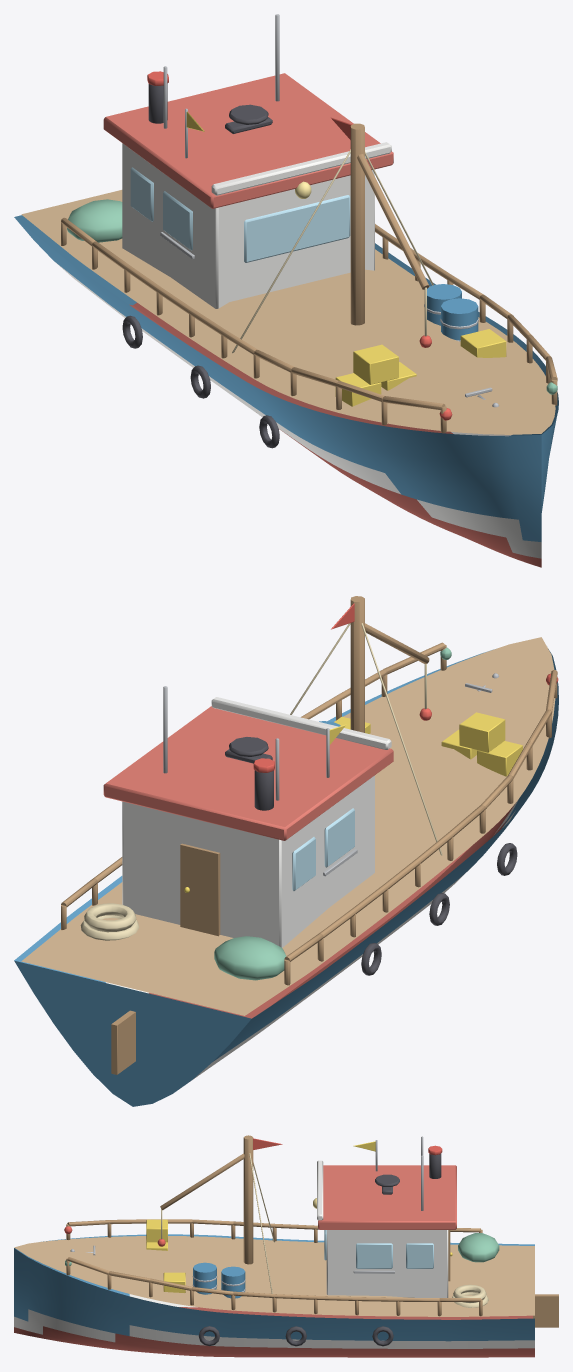
File: kapal_b.fbx
3 renders of one model, top to bottom at view 1: azimuth 30°, elevation 25°; view 2: azimuth 150°, elevation 25°; view 3: azimuth 270°, elevation 25°, orthographic. The views are drawn at different scales.
Parts seen in each view (by area): view 1: Geladak, Badan, Kabin, Atap, Kayu, Kaca, Garis, Bawah, Kuning, Hitam, Jaring, Besi (+2 smaller); view 2: Geladak, Kabin, Badan, Atap, Kayu, Kuning, Hitam, Tali, Jaring, Bawah, Kaca, Besi (+2 smaller); view 3: Geladak, Badan, Atap, Kayu, Kabin, Bawah, Garis, Kaca, Hitam, Kuning, Tali, Jaring (+2 smaller).
Part boxes in pixels (x1=…): Geladak: x1=21, y1=190, x2=555, y2=434; Badan: x1=14, y1=215, x2=558, y2=541; Kabin: x1=122, y1=142, x2=391, y2=308; Atap: x1=103, y1=73, x2=393, y2=208; Kayu: x1=61, y1=123, x2=557, y2=432; Kaca: x1=130, y1=167, x2=350, y2=262; Garis: x1=56, y1=263, x2=541, y2=558; Bawah: x1=129, y1=302, x2=541, y2=567; Kuning: x1=186, y1=111, x2=506, y2=406; Hitam: x1=122, y1=83, x2=279, y2=448; Jaring: x1=67, y1=199, x2=557, y2=394; Besi: x1=160, y1=14, x2=498, y2=407; Geladak: x1=21, y1=637, x2=555, y2=1015; Kabin: x1=122, y1=697, x2=391, y2=947; Badan: x1=14, y1=649, x2=558, y2=1106; Atap: x1=103, y1=706, x2=393, y2=840; Kayu: x1=61, y1=596, x2=557, y2=1074; Kuning: x1=184, y1=712, x2=522, y2=892; Hitam: x1=225, y1=737, x2=517, y2=975; Tali: x1=80, y1=623, x2=442, y2=940; Jaring: x1=214, y1=647, x2=451, y2=980; Bawah: x1=149, y1=804, x2=514, y2=1018; Kaca: x1=292, y1=808, x2=354, y2=890; Besi: x1=163, y1=673, x2=498, y2=876; Geladak: x1=14, y1=1236, x2=534, y2=1316; Badan: x1=14, y1=1234, x2=534, y2=1341; Atap: x1=318, y1=1165, x2=456, y2=1229; Kayu: x1=66, y1=1135, x2=558, y2=1327; Kabin: x1=317, y1=1160, x2=448, y2=1297; Bawah: x1=14, y1=1307, x2=534, y2=1357; Garis: x1=14, y1=1294, x2=534, y2=1348; Kaca: x1=324, y1=1230, x2=433, y2=1268; Hitam: x1=198, y1=1153, x2=441, y2=1346; Kuning: x1=146, y1=1141, x2=452, y2=1292; Tali: x1=161, y1=1153, x2=488, y2=1307; Jaring: x1=65, y1=1233, x2=499, y2=1265.
Bounding box in the file's own units: 8.4 × 11.12 × 25.1.
